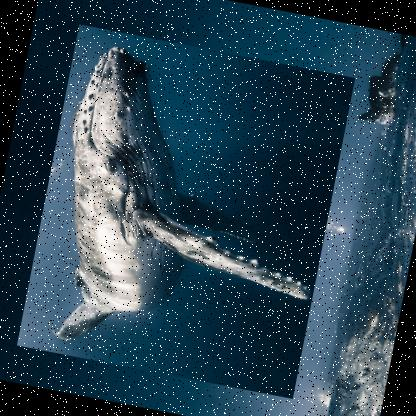blue_whale: (14, 22, 354, 398)
